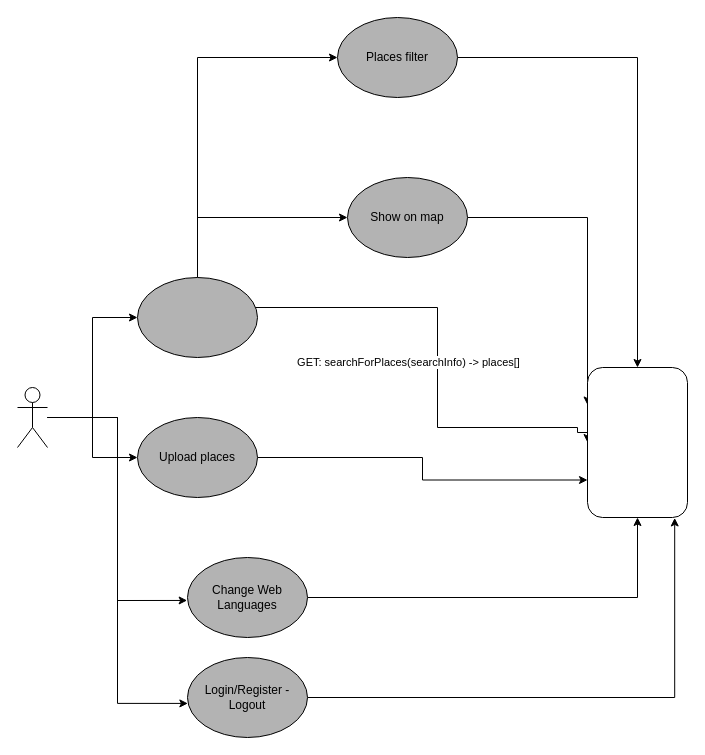
Some shapes in this 705 by 755 pixel diagram are drawn without their labels. The shapes that lost their labels are listed below. From the top down, each one's centre as x and y in pixels, then its label:
At pixel 197 317: "Search for places".
At pixel 32 417: "User".
At pixel 637 442: "Controller".
